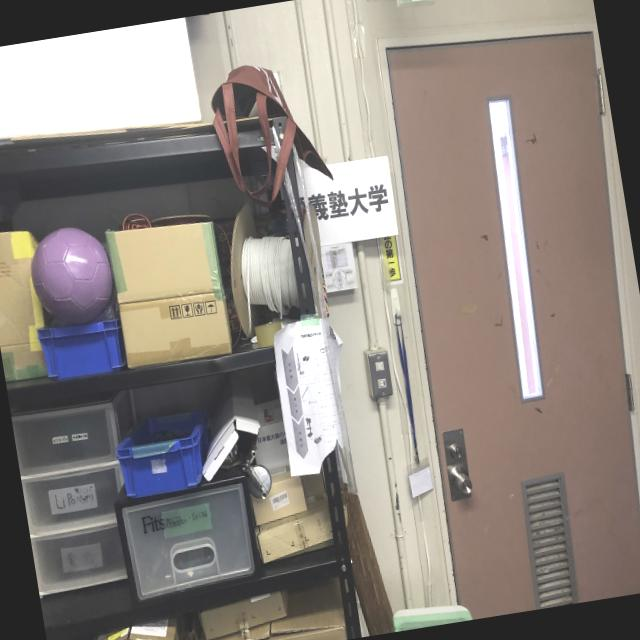purple_ball: (27, 222, 118, 328)
